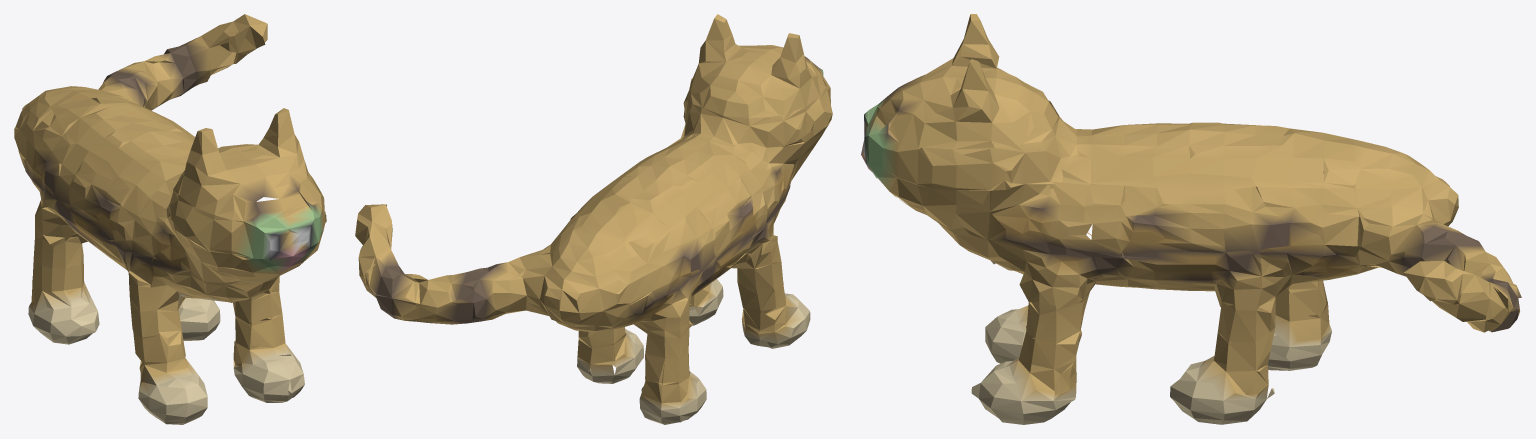
The picture shows the model from 3 angles, left to right: view 1: azimuth 30°, elevation 25°; view 2: azimuth 150°, elevation 25°; view 3: azimuth 270°, elevation 25°; orthographic projection. The views are drawn at different scales.
Parts seen in each view (by area): view 1: world; view 2: world; view 3: world.
Boxes of the visible parts, box(x1,y1,x2,y2) form: world: box(14, 14, 326, 424); world: box(355, 14, 832, 424); world: box(861, 14, 1521, 424).
Size of the model in its own units: 2.22 by 2.21 by 3.73.
